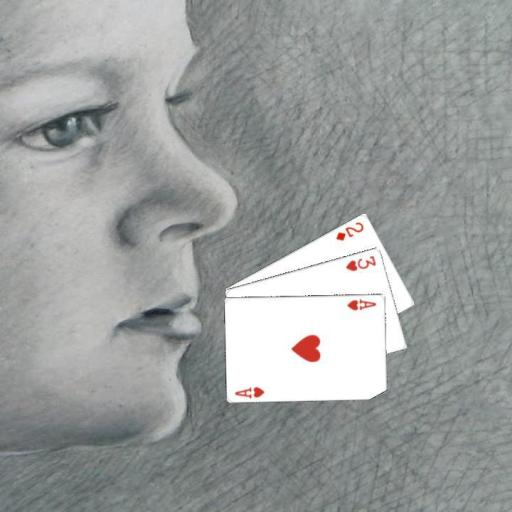2D: (333, 218, 365, 242)
3H: (343, 253, 378, 273)
AH: (232, 383, 266, 400), (344, 296, 378, 311)
